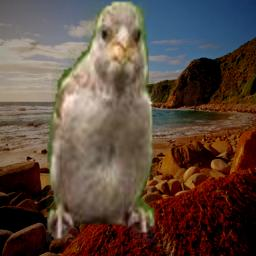Sparrow: (46, 0, 156, 256)
